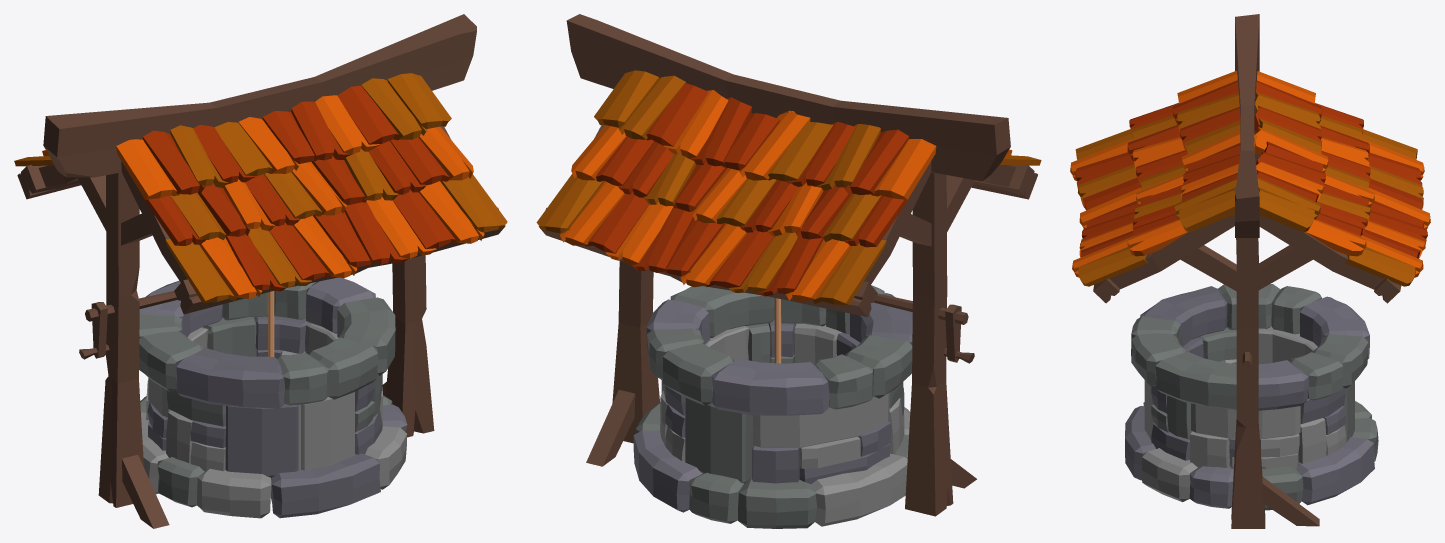
The picture shows the model from 3 angles, left to right: view 1: azimuth 30°, elevation 25°; view 2: azimuth 150°, elevation 25°; view 3: azimuth 270°, elevation 25°; orthographic projection. The views are drawn at different scales.
Visible parts, largest first — view 1: Cube.014, Cube.005, Cube.004, Cube.075, Cube.092, Cube.059, Cube.087, Cube.068, Cube.001, Cube.077, Cube.020, Cube.074 (+59 smaller); view 2: Cube.014, Cube.005, Cube.071, Cube.004, Cube.097, Cube.066, Cube.002, Cube.065, Cube.062, Cube.001, Cube.072, Cube.006 (+57 smaller); view 3: Cube.004, Cube.014, Cube.007, Cube.001, Cube.062, Cube.054, Cube.031, Cube.075, Cube.082, Cube.008, Cube.041, Cube.071 (+60 smaller).
Boxes of the visible parts, box(x1,y1,x2,y2) form: Cube.014: box(43, 14, 476, 177); Cube.005: box(98, 172, 143, 507); Cube.004: box(385, 255, 434, 437); Cube.075: box(175, 348, 284, 408); Cube.092: box(225, 404, 298, 478); Cube.059: box(271, 453, 380, 518); Cube.087: box(301, 392, 354, 470); Cube.068: box(197, 469, 271, 518); Cube.001: box(337, 297, 395, 375); Cube.077: box(309, 337, 377, 399); Cube.020: box(14, 156, 236, 302); Cube.074: box(139, 331, 204, 391); Cube.014: box(566, 14, 1010, 181); Cube.005: box(905, 171, 953, 516); Cube.071: box(711, 358, 829, 415); Cube.004: box(612, 261, 659, 443); Cube.097: box(753, 392, 889, 448); Cube.066: box(811, 453, 907, 526); Cube.002: box(685, 398, 747, 483); Cube.065: box(738, 478, 816, 528); Cube.062: box(633, 430, 702, 512); Cube.001: box(670, 286, 774, 337); Cube.072: box(663, 343, 733, 405); Cube.006: box(538, 164, 1037, 317); Cube.004: box(1231, 238, 1265, 528); Cube.014: box(1235, 14, 1259, 237); Cube.007: box(1110, 214, 1384, 289); Cube.001: box(1155, 351, 1236, 409); Cube.062: box(1296, 437, 1374, 505); Cube.054: box(1179, 187, 1314, 232); Cube.031: box(1078, 247, 1415, 286); Cube.075: box(1140, 286, 1227, 346); Cube.082: box(1191, 403, 1300, 439); Cube.008: box(1180, 155, 1312, 291); Cube.041: box(1127, 219, 1366, 256); Cube.071: box(1299, 296, 1369, 358).
Bounding box in the file's own units: 22.16 × 19.88 × 18.42.
